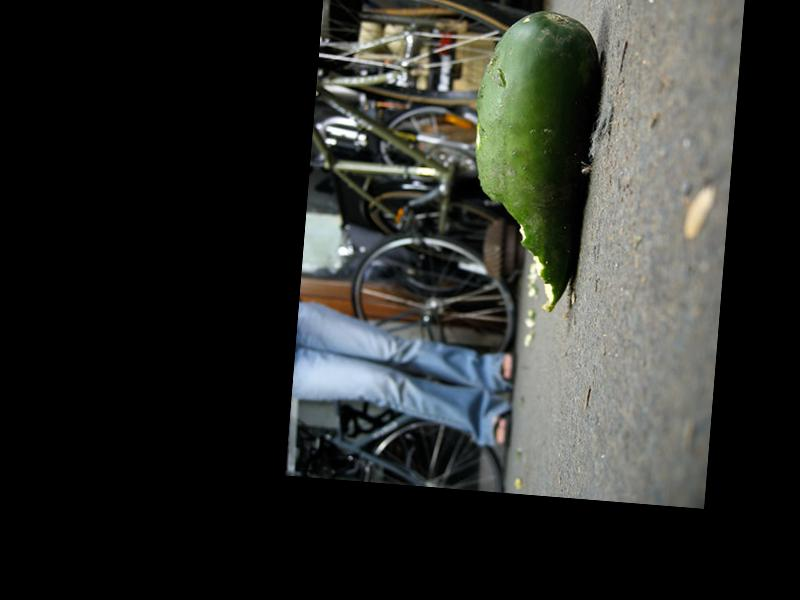Cucumber: (461, 7, 602, 318)
